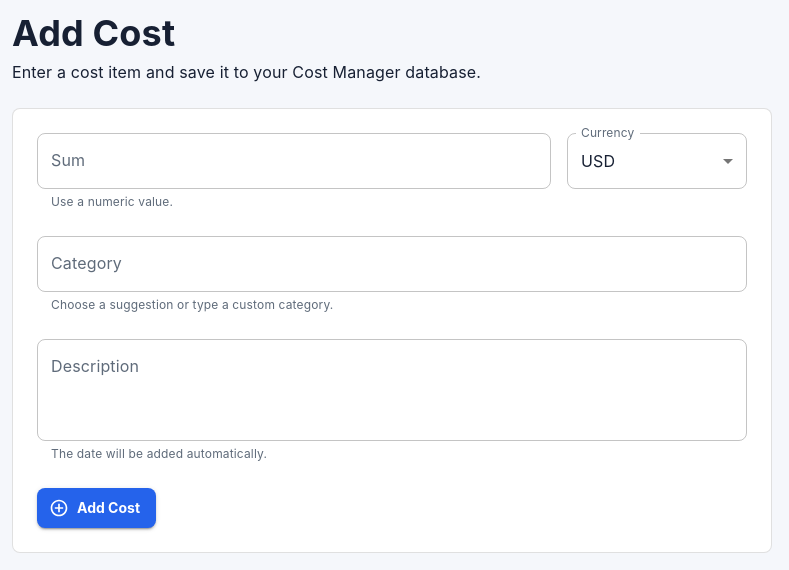
AddCostPage › offers exactly the required currency identifiers
Click the dropdown named "Currency" at (598,161), box [581, 151, 615, 171]
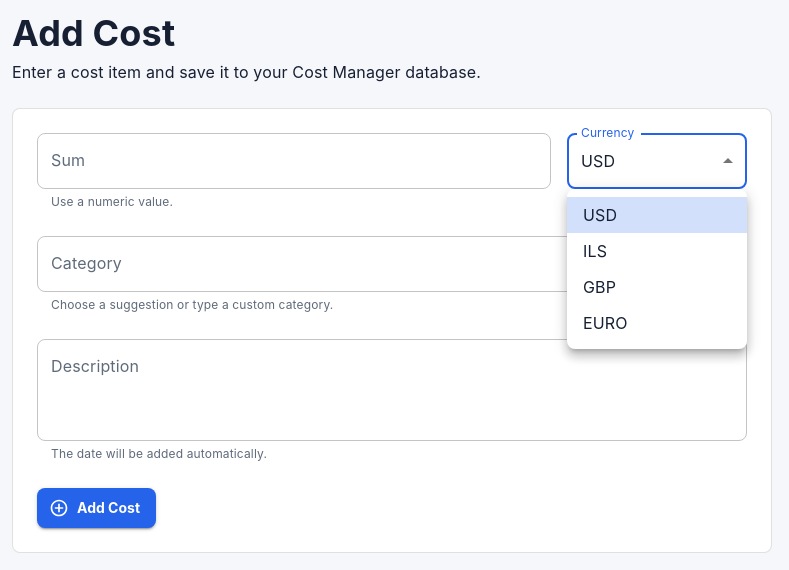
expect the options read "USD", "ILS", "GBP", "EURO", in this order: met, box [567, 197, 747, 233]; [583, 241, 607, 261]; [583, 277, 616, 297]; [583, 313, 628, 333]
